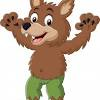Lobo: (3, 1, 98, 84)
